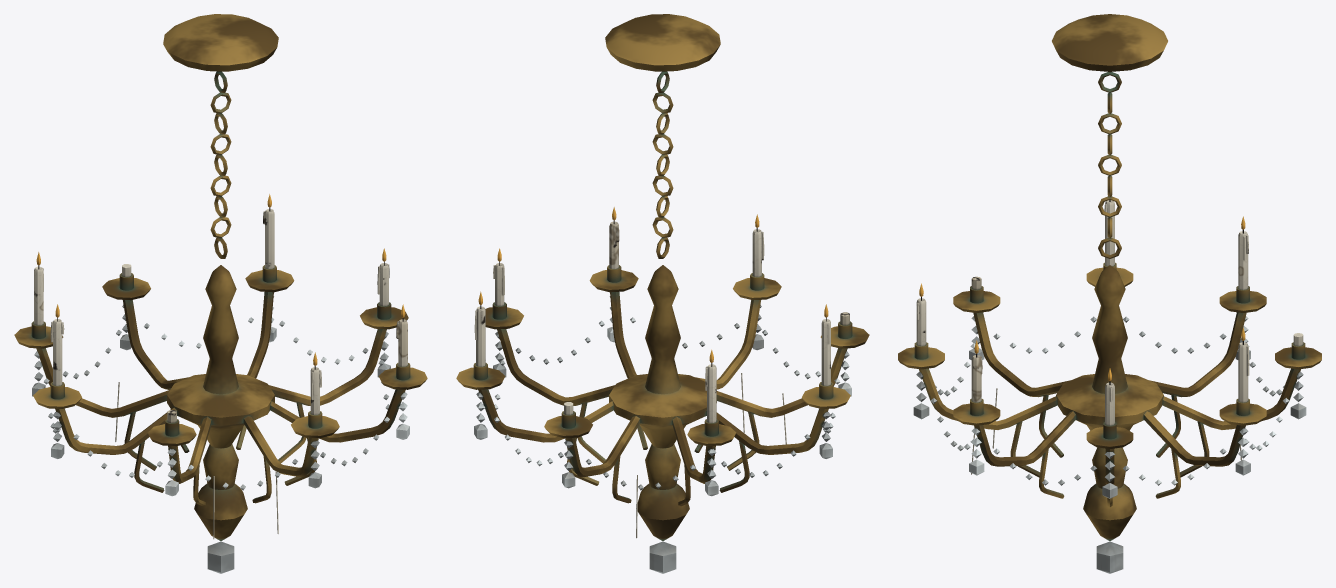
File: Chandelier.fbx
3 renders of one model, left to right at view 1: azimuth 30°, elevation 25°; view 2: azimuth 150°, elevation 25°; view 3: azimuth 270°, elevation 25°, orthographic.
Visible parts, largest first — view 1: Frame, Crystal; view 2: Frame, Crystal; view 3: Frame, Crystal.
Part boxes in pixels (x1,y1,x2,y2): Frame: [14, 14, 427, 540]; Crystal: [32, 296, 409, 573]; Frame: [456, 14, 869, 540]; Crystal: [474, 296, 851, 573]; Frame: [898, 14, 1321, 540]; Crystal: [913, 316, 1306, 573].
Size of the model in its own units: 2.85 by 3.99 by 2.83.
Materials: 1 (1 with a texture image).
